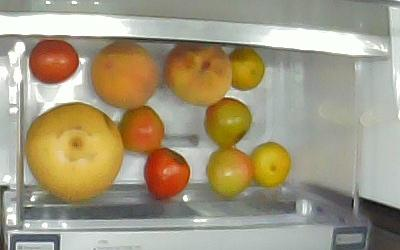peach: (88, 40, 157, 107), (164, 42, 232, 107)
pear: (27, 102, 124, 200)
tangerine: (250, 141, 290, 186), (229, 46, 263, 90)
tomato: (143, 147, 190, 200), (204, 97, 252, 148), (205, 148, 253, 195), (29, 39, 79, 84), (118, 105, 163, 153)
